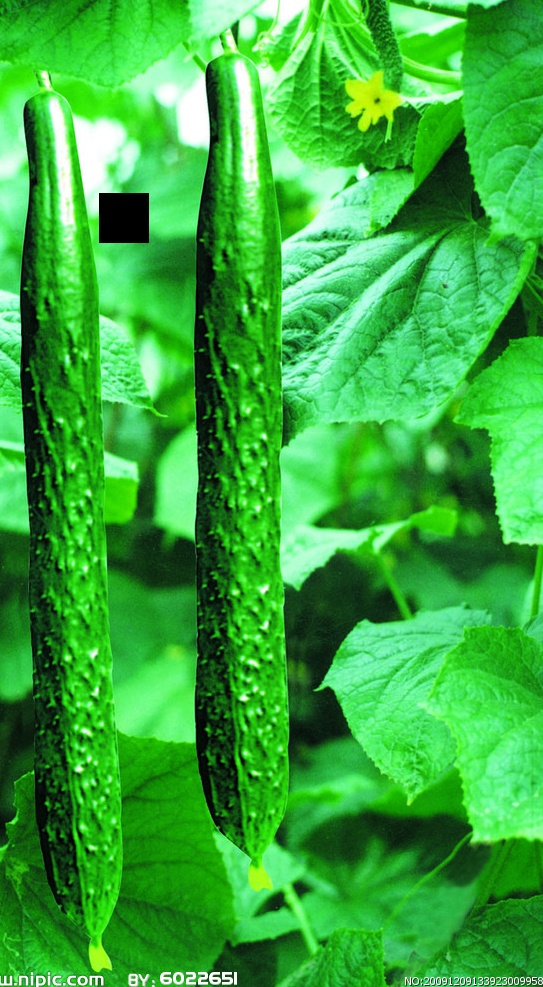cucumber: (21, 93, 131, 948), (193, 53, 299, 869)
cucumber_plant: (302, 12, 542, 403)
